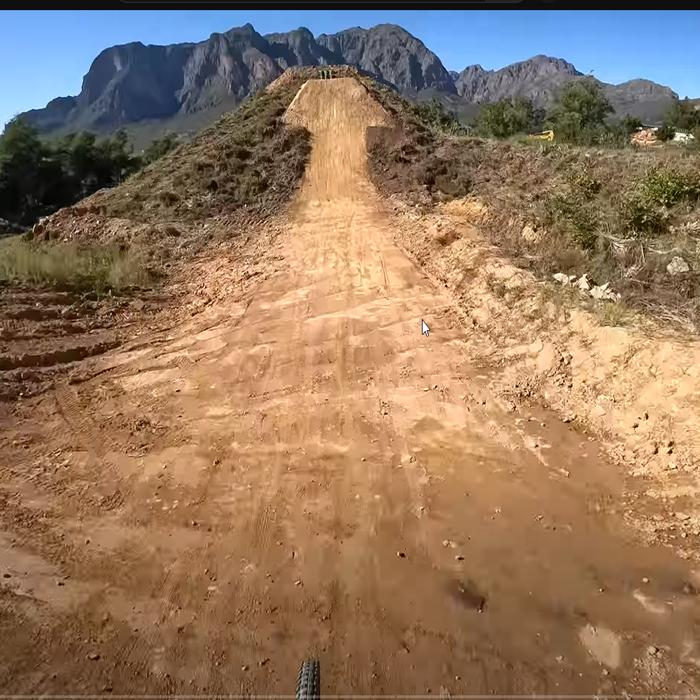turn: (277, 66, 398, 129)
